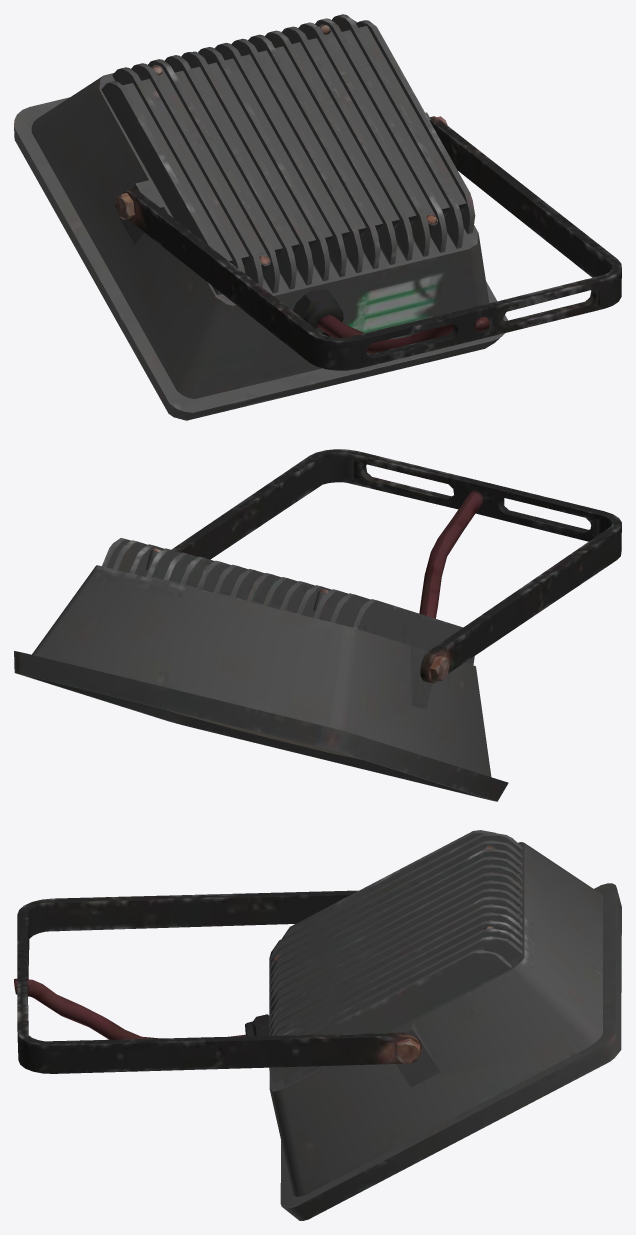
File: rocket_factory_spot_light.glb
3 renders of one model, top to bottom at view 1: azimuth 30°, elevation 25°; view 2: azimuth 150°, elevation 25°; view 3: azimuth 270°, elevation 25°, orthographic. The views are drawn at different scales.
Parts seen in each view (by area): view 1: spotlight_LOD0; view 2: spotlight_LOD0; view 3: spotlight_LOD0.
Part boxes in pixels (left/top/right/bottom): spotlight_LOD0: left=14, top=14, right=621, bottom=420; spotlight_LOD0: left=14, top=449, right=621, bottom=801; spotlight_LOD0: left=14, top=830, right=621, bottom=1220.
Bounding box in the file's own units: 0.3927 × 0.2957 × 0.6226.
1 material, 1 textured.
